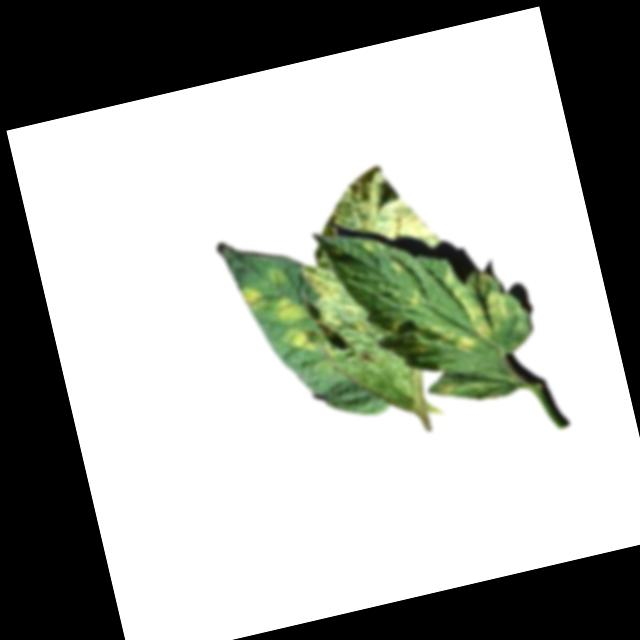Leaf_Mold: (418, 252, 521, 367), (328, 152, 441, 254), (305, 250, 378, 356), (274, 284, 320, 357), (237, 280, 268, 309)
